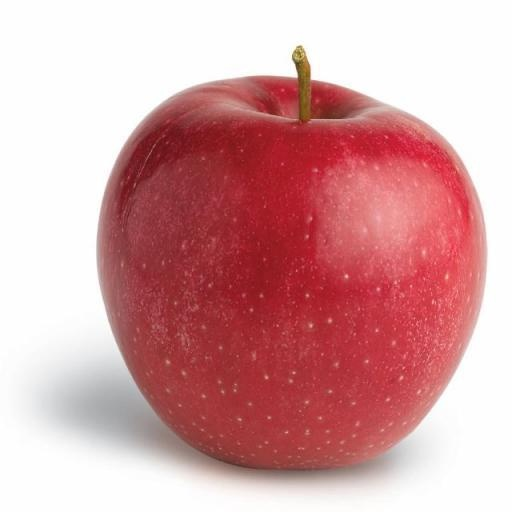fruit: (458, 137, 502, 481), (191, 32, 405, 83)
